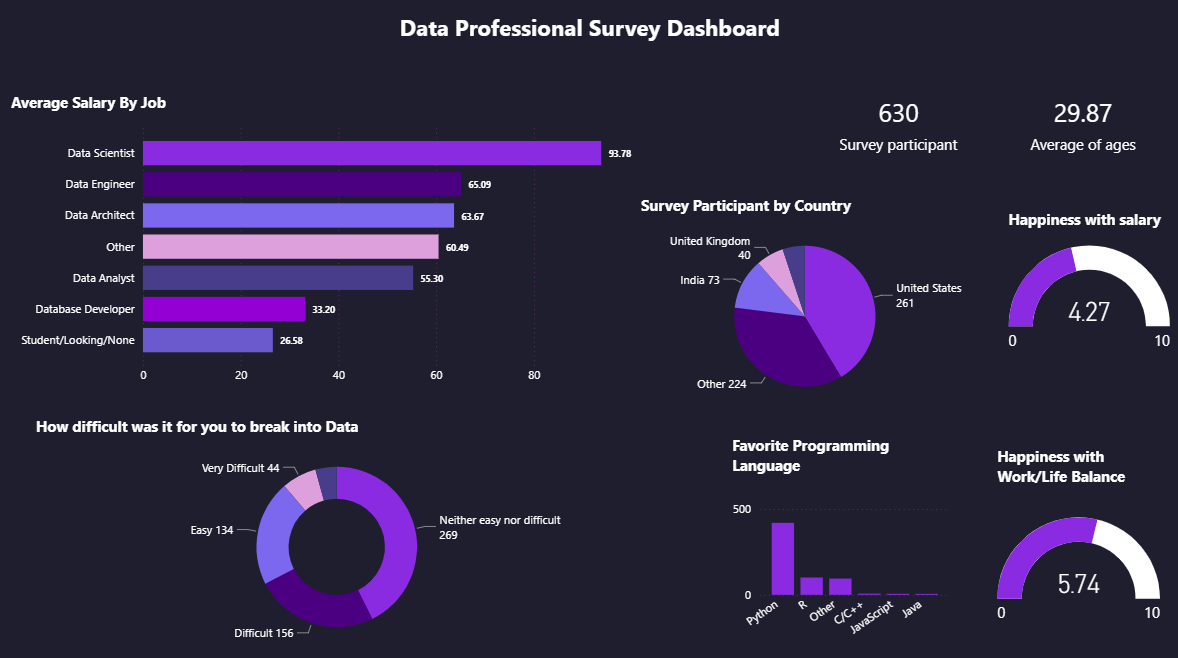

What the dashboard file says about the page in this screenshot:
{"tool":"powerbi","page":{"name":"Page 1","canvas":[1280,720],"ordinal":0},"visuals":[{"type":"card","fields":{"Values":["Avg(Data Professional Survey.Q10 - Current Age)"]},"box":[1064.2,76.5,216,121],"z":0},{"type":"card","title":"Survey participant","fields":{"Values":["CountNonNull(Data Professional Survey.Unique ID)"]},"box":[869.1,76.5,206.2,121],"z":1000},{"type":"barChart","title":" Average Salary By Job","fields":{"Series":["Data Professional Survey.Q1 - Which Title Best Fits your Current Role?"],"Category":["Data Professional Survey.Q1 - Which Title Best Fits your Current Role?"],"Y":["Avg(Data Professional Survey.Average_salary)"]},"box":[1.2,88,705.6,349.7],"z":2000},{"type":"textbox","box":[1.4,2.7,1278.9,73.5],"z":3000},{"type":"donutChart","title":"How difficult was it for you to break into Data","fields":{"Category":["Data Professional Survey.Q7 - How difficult was it for you to break into Data?"],"Y":["CountNonNull(Data Professional Survey.Q7 - How difficult was it for you to break into Data?)"]},"box":[85.2,456.8,629.6,263],"z":4000},{"type":"gauge","title":"Happiness with salary","fields":{"Y":["Avg(Data Professional Survey.Q6 - How Happy are you in your Current Position with the following? (Salary))"],"MinValue":["Min(Data Professional Survey.Q6 - How Happy are you in your Current Position with the following? (Salary))"],"MaxValue":["Max(Data Professional Survey.Q6 - How Happy are you in your Current Position with the following? (Salary))"]},"box":[1075.3,212.3,204.9,198.8],"z":5000},{"type":"gauge","title":"Happiness with Work/Life Balance","fields":{"Y":["Avg(Data Professional Survey.Q6 - How Happy are you in your Current Position with the following? (Work/Life Balance))"],"MinValue":["Min(Data Professional Survey.Q6 - How Happy are you in your Current Position with the following? (Work/Life Balance))"],"MaxValue":["Max(Data Professional Survey.Q6 - How Happy are you in your Current Position with the following? (Work/Life Balance))"]},"box":[1064.2,467.9,206.2,251.9],"z":6000},{"type":"columnChart","title":" Favorite Programming Language","fields":{"Category":["Data Professional Survey.Q5 - Favorite Programming Language"],"Y":["CountNonNull(Data Professional Survey.Q5 - Favorite Programming Language)"],"Series":["Data Professional Survey.Q1 - Which Title Best Fits your Current Role?"]},"box":[777.8,456.8,265.4,263],"z":7000},{"type":"pieChart","fields":{"Category":["Data Professional Survey.Q11 - Which Country do you live in?"],"Y":["CountNonNull(Data Professional Survey.Unique ID)"]},"box":[715.4,198.1,348.5,262.9],"z":8001}]}

Visuals, with their boxes in screenshot pixels (x1, y1, x2, y2), scaled from the page's 1280x720 canvas onto the 1178x658 screenshot:
card - Avg(Data Professional Survey.Q10 - Current Age): (979, 70, 1177, 180)
"Survey participant" card: (800, 70, 990, 180)
" Average Salary By Job" barChart: (1, 80, 650, 400)
textbox: (1, 2, 1177, 70)
"How difficult was it for you to break into Data" donutChart: (78, 417, 658, 657)
"Happiness with salary" gauge: (990, 194, 1177, 376)
"Happiness with Work/Life Balance" gauge: (979, 428, 1169, 657)
" Favorite Programming Language" columnChart: (716, 417, 960, 657)
pieChart - Data Professional Survey.Q11 - Which Country do you live in? x CountNonNull(Data Professional Survey.Unique ID): (658, 181, 979, 421)
